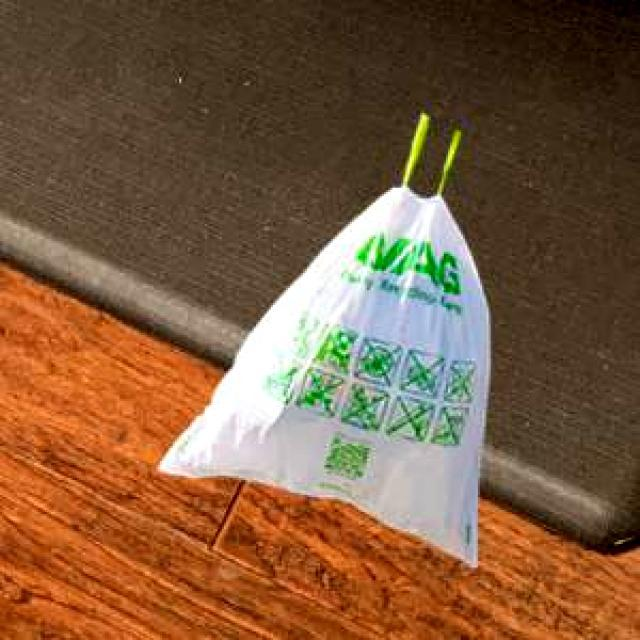Plastic_Bag: (155, 111, 488, 564)
